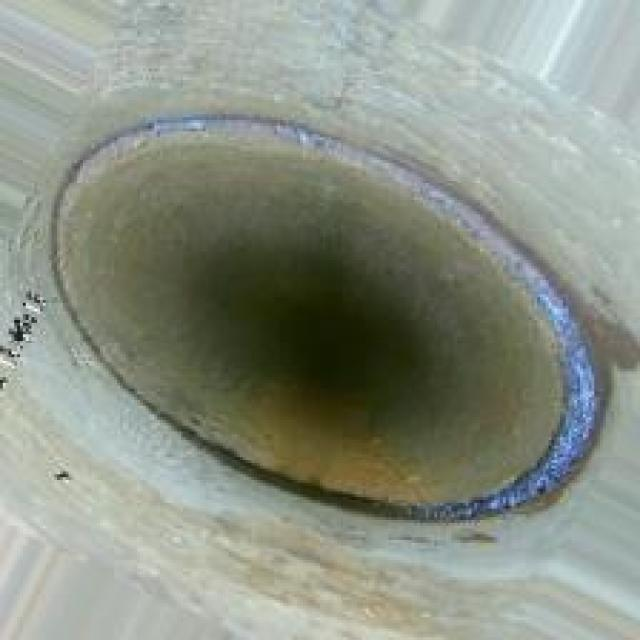joint: (37, 100, 606, 520)
